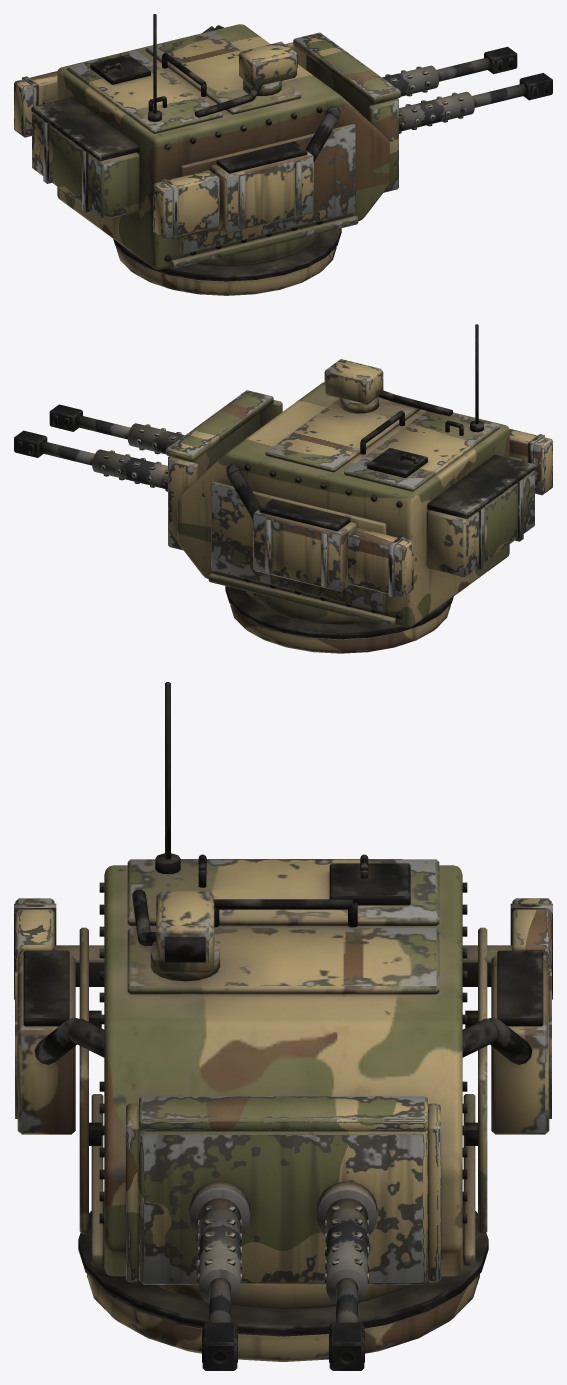
Rendered from turret_grach_t3_reed.glb.
3 renders of one model, top to bottom at view 1: azimuth 30°, elevation 25°; view 2: azimuth 150°, elevation 25°; view 3: azimuth 270°, elevation 25°, orthographic. The views are drawn at different scales.
Parts seen in each view (by area): view 1: turret_light_t3, guns, pods; view 2: turret_light_t3, guns, pods; view 3: turret_light_t3, guns, pods.
Part boxes in pixels (bbox=[...]): turret_light_t3: bbox=[31, 14, 389, 295]; guns: bbox=[285, 32, 552, 192]; pods: bbox=[14, 71, 220, 239]; turret_light_t3: bbox=[177, 324, 535, 653]; guns: bbox=[14, 390, 282, 550]; pods: bbox=[346, 428, 552, 597]; turret_light_t3: bbox=[15, 682, 551, 1361]; guns: bbox=[126, 1096, 440, 1370]; pods: bbox=[14, 898, 552, 999].
Bounding box in the file's own units: 1.86 × 1.09 × 1.05.
3 materials, 3 textured.
